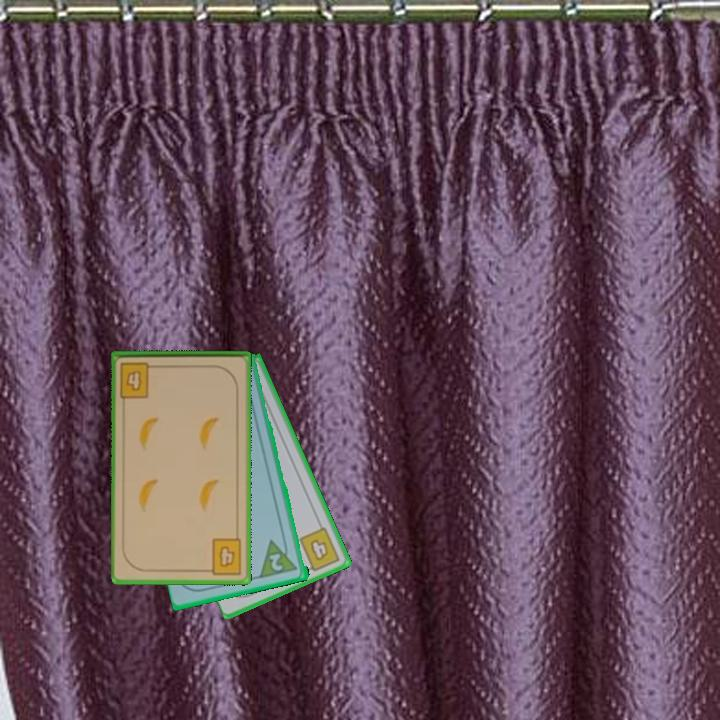2p: (257, 534, 301, 581)
4b: (296, 524, 343, 575), (116, 358, 160, 400), (202, 535, 244, 577)
